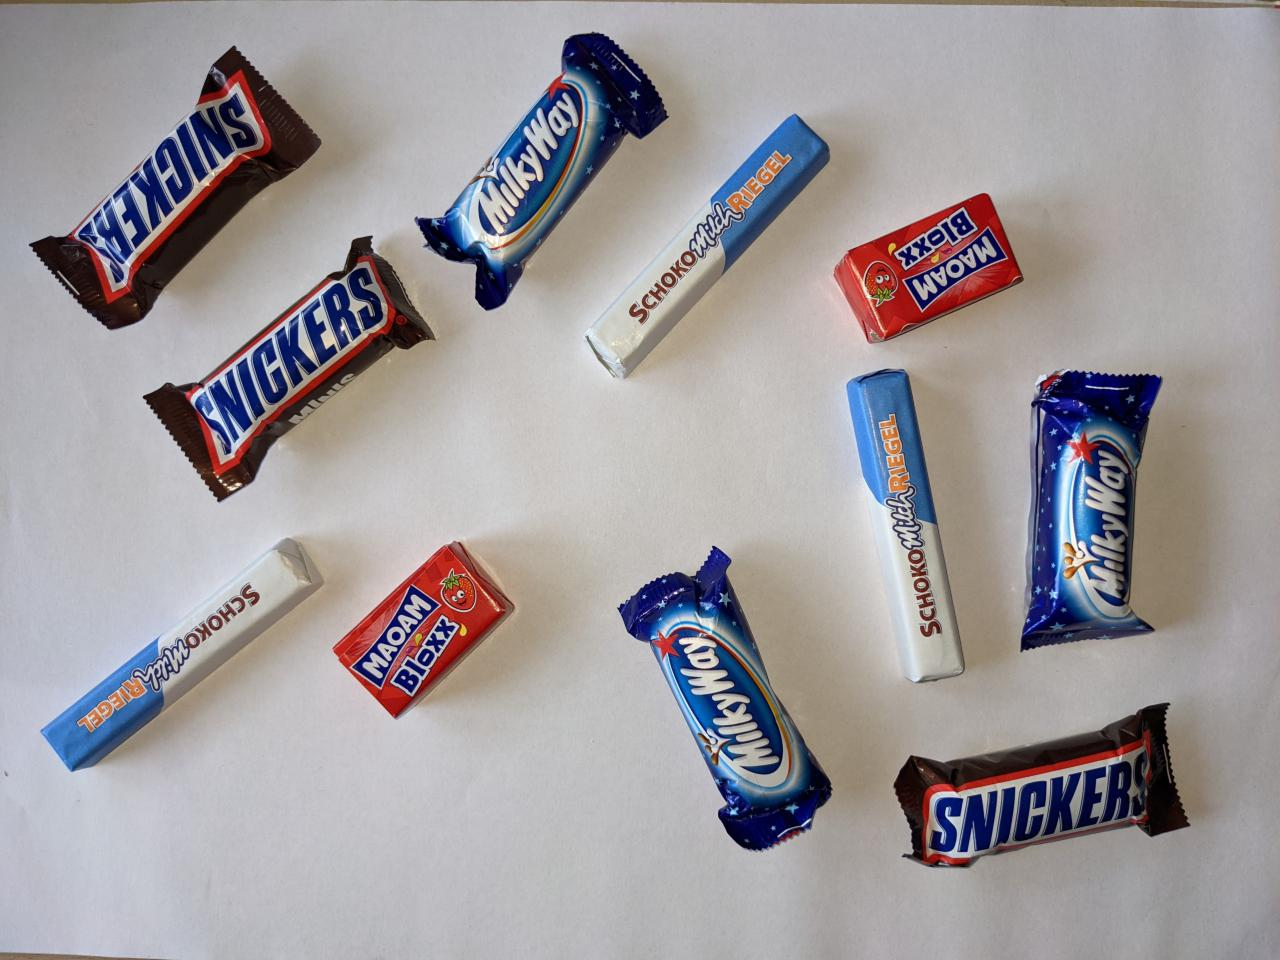MAOAM: (322, 530, 529, 727), (825, 185, 1032, 352)
MilkyWay: (408, 29, 679, 314), (608, 538, 842, 858), (1008, 360, 1175, 669)
Schokoriegel: (28, 530, 330, 784), (571, 106, 839, 388), (838, 358, 975, 698)
Snickers: (21, 36, 333, 337), (134, 226, 447, 509), (887, 692, 1200, 880)
